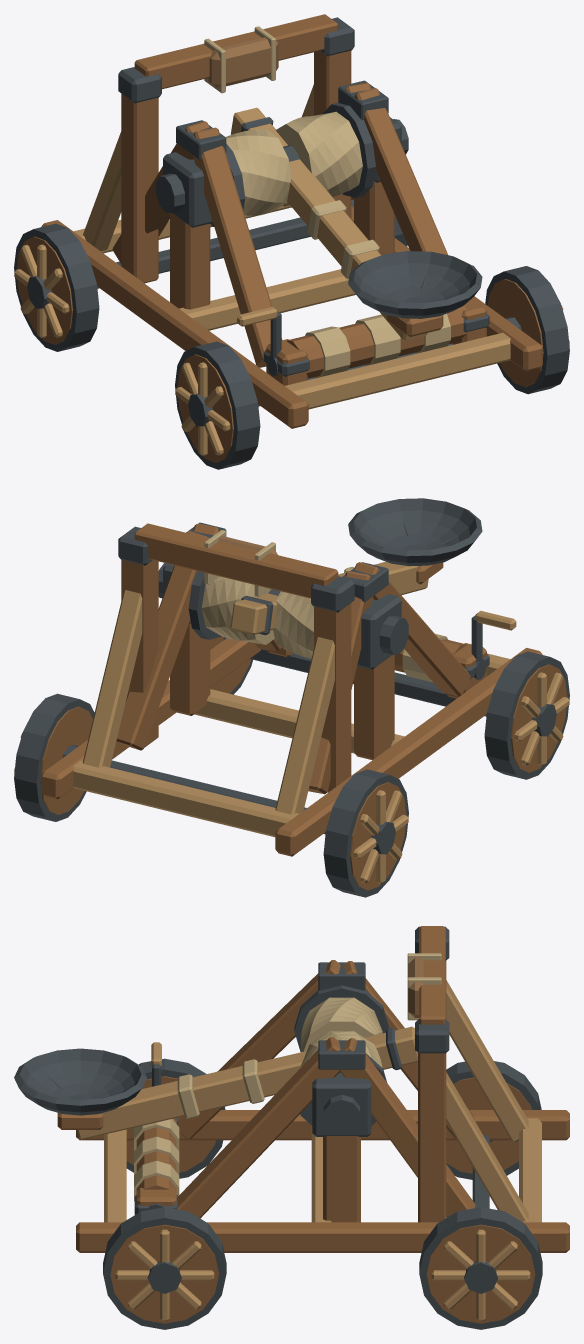
Rendered from catapult-v6.glb.
The picture shows the model from 3 angles, top to bottom: view 1: azimuth 30°, elevation 25°; view 2: azimuth 150°, elevation 25°; view 3: azimuth 270°, elevation 25°; orthographic projection.
Parts seen in each view (by area): view 1: Spoon_Bowl, Chassis_Long, A_Frame, Cross_Beam, Stop_Bar_Post, A_Frame.002, Stop_Bar, Torsion_Skein.001, Spoon_Arm, Tyre, Tyre.002, Tyre.001 (+29 smaller); view 2: Spoon_Bowl, Chassis_Long, Stop_Bar, Cross_Beam.002, A_Frame.003, Stop_Bar_Brace.001, Stop_Bar_Brace, Stop_Bar_Post, Tyre.002, Tyre, Tyre.003, Axle_Bearing_Post (+25 smaller); view 3: Chassis_Long.001, Spoon_Arm, Spoon_Bowl, A_Frame.002, Oak_Wheel.003, Oak_Wheel.001, Stop_Bar_Post.001, Chassis_Long, A_Frame.003, Tyre.003, Tyre.001, Stop_Bar_Brace (+32 smaller).
Part boxes in pixels (bbox=[...]): Spoon_Bowl: bbox=[348, 251, 482, 318]; Chassis_Long: bbox=[41, 220, 308, 428]; A_Frame: bbox=[192, 127, 282, 367]; Cross_Beam: bbox=[285, 332, 510, 409]; Stop_Bar_Post: bbox=[121, 94, 158, 283]; A_Frame.002: bbox=[354, 88, 447, 254]; Stop_Bar: bbox=[134, 14, 338, 89]; Torsion_Skein.001: bbox=[276, 111, 362, 196]; Spoon_Arm: bbox=[231, 107, 427, 340]; Tyre: bbox=[175, 341, 260, 469]; Tyre.002: bbox=[14, 223, 99, 351]; Tyre.001: bbox=[485, 266, 569, 394]; Spoon_Bowl: bbox=[348, 498, 482, 566]; Chassis_Long: bbox=[275, 647, 542, 856]; Stop_Bar: bbox=[134, 523, 338, 598]; Cross_Beam.002: bbox=[73, 760, 298, 837]; A_Frame.003: bbox=[116, 531, 209, 750]; Stop_Bar_Brace.001: bbox=[82, 590, 142, 767]; Stop_Bar_Brace: bbox=[275, 637, 334, 814]; Stop_Bar_Post: bbox=[314, 603, 351, 792]; Tyre.002: bbox=[323, 769, 408, 897]; Tyre: bbox=[484, 651, 569, 779]; Tyre.003: bbox=[14, 693, 94, 821]; Axle_Bearing_Post: bbox=[354, 655, 394, 760]; Chassis_Long.001: bbox=[76, 1222, 569, 1252]; Spoon_Arm: bbox=[76, 1026, 417, 1139]; Spoon_Bowl: bbox=[14, 1048, 146, 1115]; A_Frame.002: bbox=[177, 1037, 340, 1218]; Oak_Wheel.003: bbox=[426, 1224, 535, 1323]; Oak_Wheel.001: bbox=[110, 1224, 218, 1323]; Stop_Bar_Post.001: bbox=[418, 1053, 446, 1222]; Chassis_Long: bbox=[76, 1110, 569, 1140]; A_Frame.003: bbox=[340, 1038, 475, 1217]; Tyre.003: bbox=[419, 1207, 542, 1329]; Tyre.001: bbox=[103, 1207, 226, 1329]; Stop_Bar_Brace: bbox=[446, 980, 528, 1142].
Bounding box in the file's own units: 4.2 × 3.3 × 5.85.
